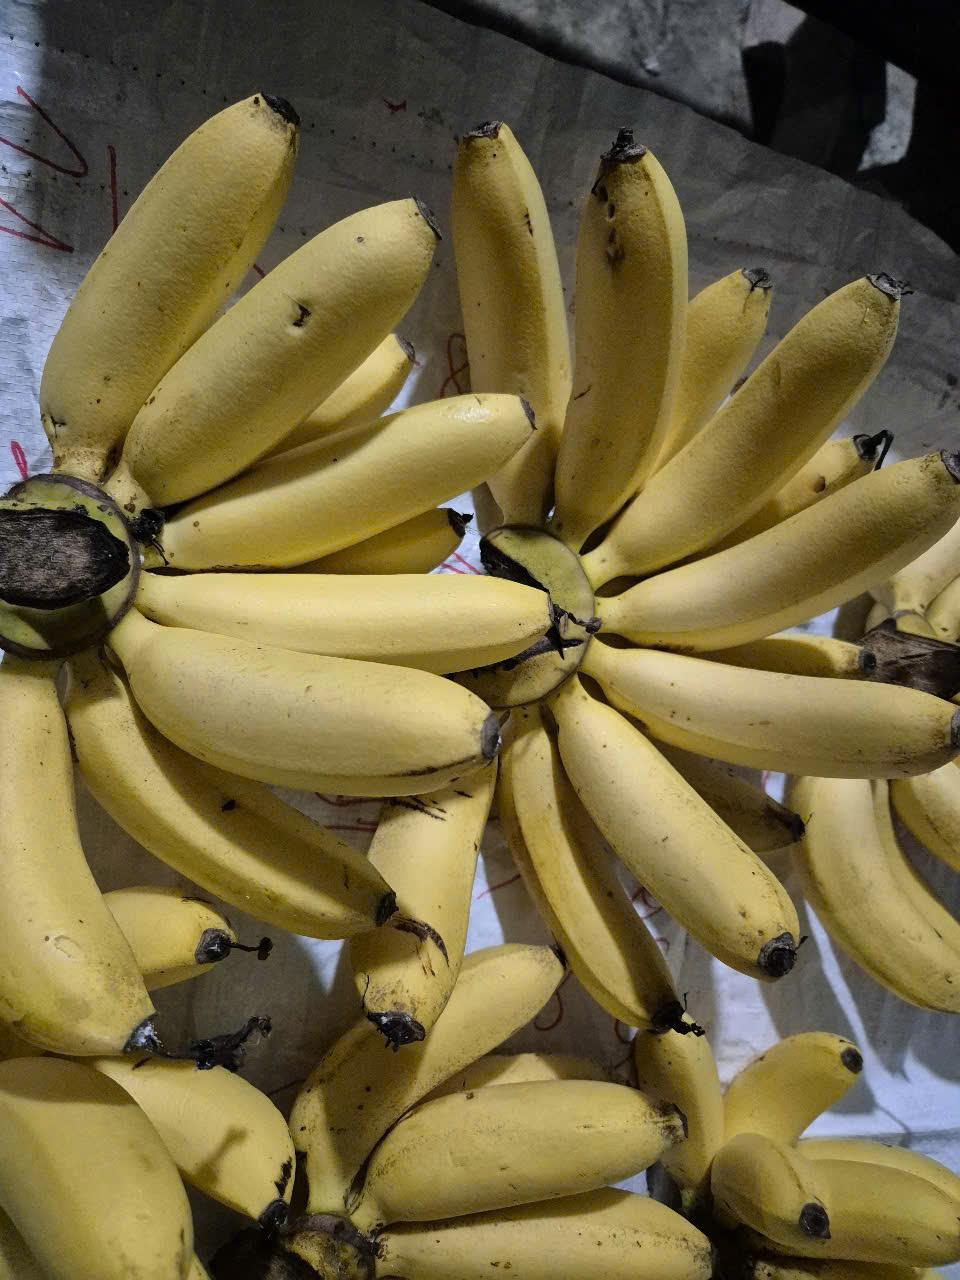banana: (2, 100, 535, 562), (10, 577, 547, 1028), (480, 103, 937, 607), (537, 597, 960, 962), (267, 950, 683, 1280), (613, 1033, 960, 1280)
